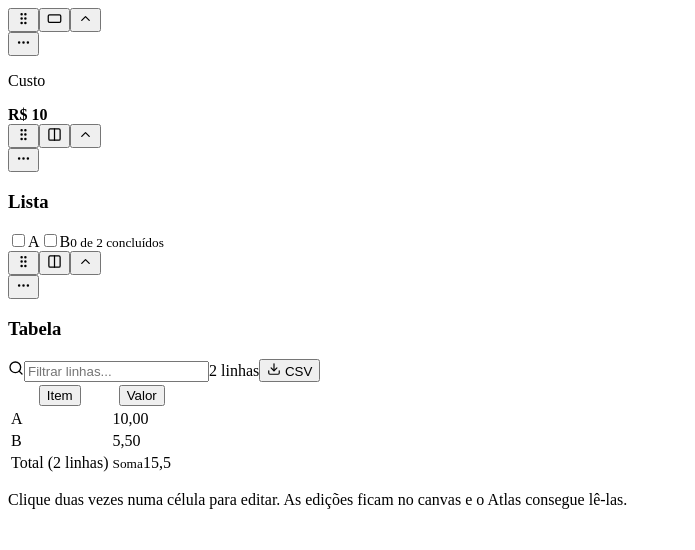
Test: asks the agent about a block and offers its data as CSV
This screenshot has width=695, height=550.
Later steps or results of the test are not shown.
Click the 3rd button named "Mais ações" at (24, 287), box [8,275,39,299]
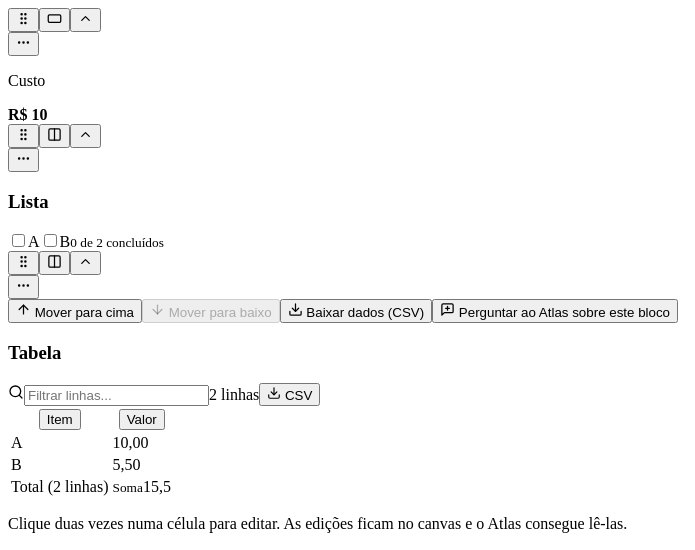
Result: the menu item "Baixar dados (CSV)" is shown at [280,299,432,323]
